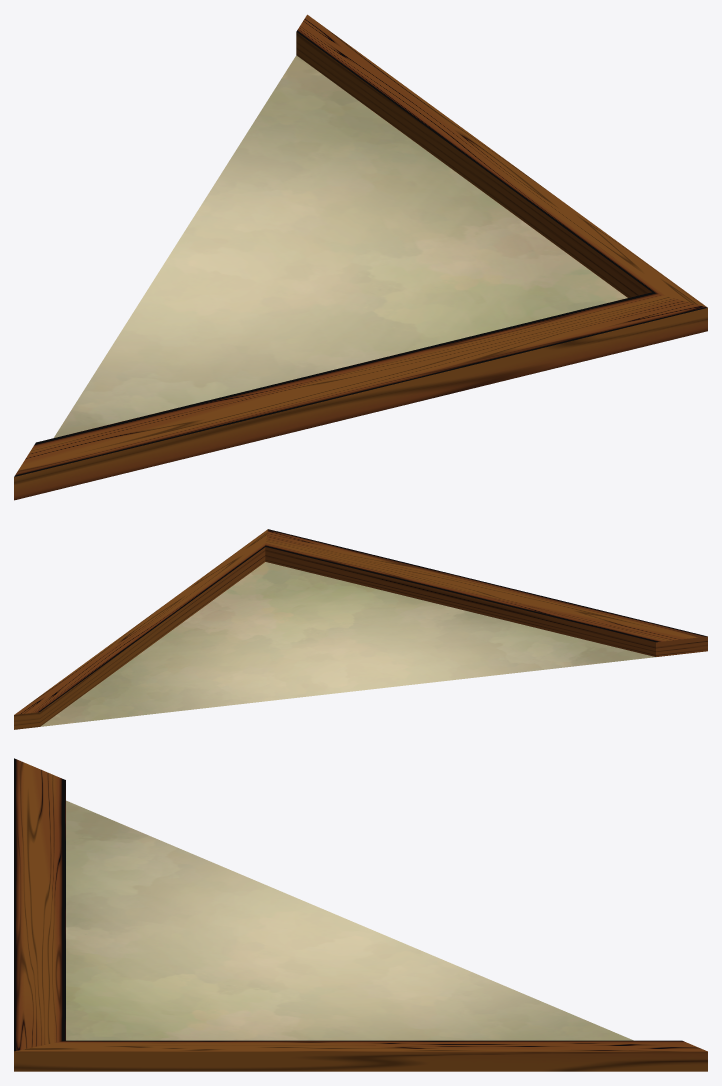
File: MTile_15.fbx
3 renders of one model, top to bottom at view 1: azimuth 30°, elevation 25°; view 2: azimuth 150°, elevation 25°; view 3: azimuth 270°, elevation 25°, orthographic. The views are drawn at different scales.
Visible parts, largest first — view 1: MTile_15; view 2: MTile_15; view 3: MTile_15.
Part boxes in pixels (<box>): MTile_15: <box>14,14,707,500</box>; MTile_15: <box>14,529,707,729</box>; MTile_15: <box>14,758,707,1071</box>.
Bounding box in the file's own units: 255 × 8.22 × 255.
